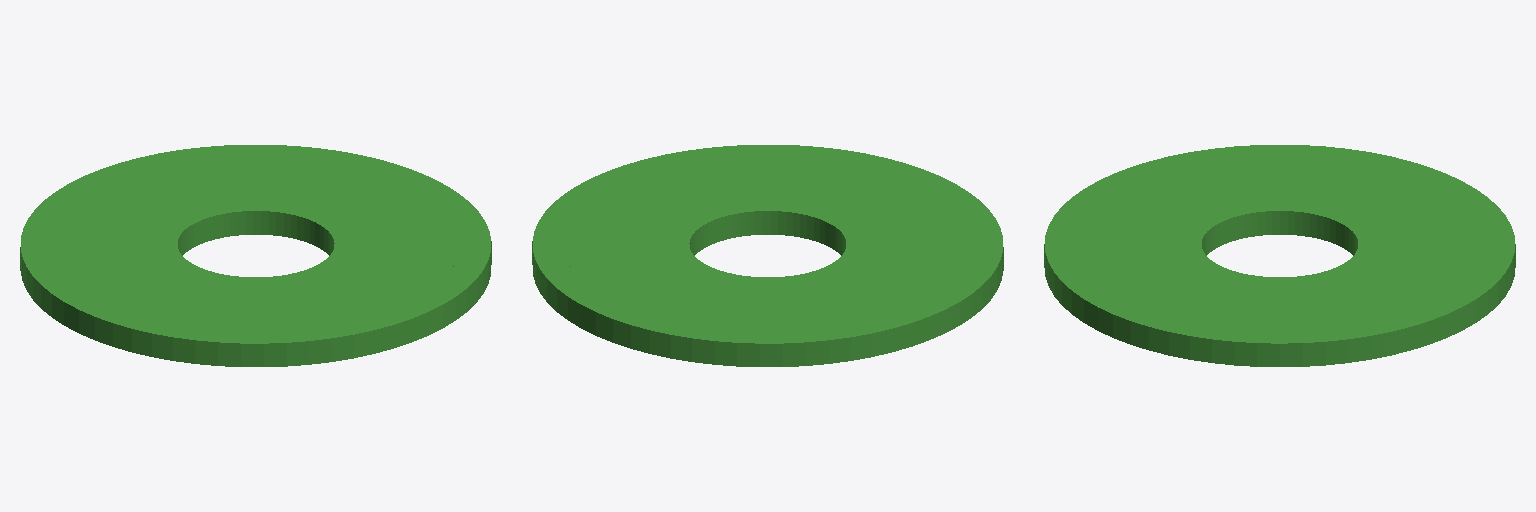
URDF robot description (disk2.urdf):
<?xml version="0.0" ?>
<robot name="disk2.urdf">
  <link name="baseLink">
    <contact>
      <lateral_friction value="1.0"/>
      <rolling_friction value="0.0001"/>
      <inertia_scaling value="3.0"/>
    </contact>
    <inertial>
      <origin rpy="0 0 0" xyz="0 0 0"/>
       <mass value=".1"/>
       <inertia ixx="1" ixy="0" ixz="0" iyy="1" iyz="0" izz="1"/>
    </inertial>
    <visual>
      <origin rpy="0 0 0" xyz="0 0 0"/>
      <geometry>
         <mesh filename="disk3.obj" scale="0.001 0.001 0.0005"/>
      </geometry>
      <material name="green">
        <color rgba="0.34901961 0.6627451 0.30980392 1"/>
      </material>
    </visual>
    <collision>
      <origin rpy="0 0 0" xyz="0 0 0"/>
      <geometry>
	 	    <mesh filename="disk3.obj" scale="0.001 0.001 0.0005"/>
      </geometry>
    </collision>
  </link>
</robot>

--- Facts derived from the render (not from the file) ---
The picture shows the robot from 3 angles, left to right: view 1: azimuth 30°, elevation 25°; view 2: azimuth 150°, elevation 25°; view 3: azimuth 270°, elevation 25°; orthographic projection.
Robot: disk2.urdf — 1 links, 0 joints (none); root link baseLink; default pose: every joint at zero.
Visible links, largest first — view 1: baseLink; view 2: baseLink; view 3: baseLink.
Link boxes in pixels (x1,y1,x2,y2): baseLink: [20, 145, 491, 366]; baseLink: [532, 145, 1003, 366]; baseLink: [1044, 145, 1515, 366].
Bounding box of the posed robot: 0.09 × 0.09 × 0.005 m (x, y, z).
Meshes: 1 distinct files referenced, 1 mesh visuals loaded (1 OBJ).